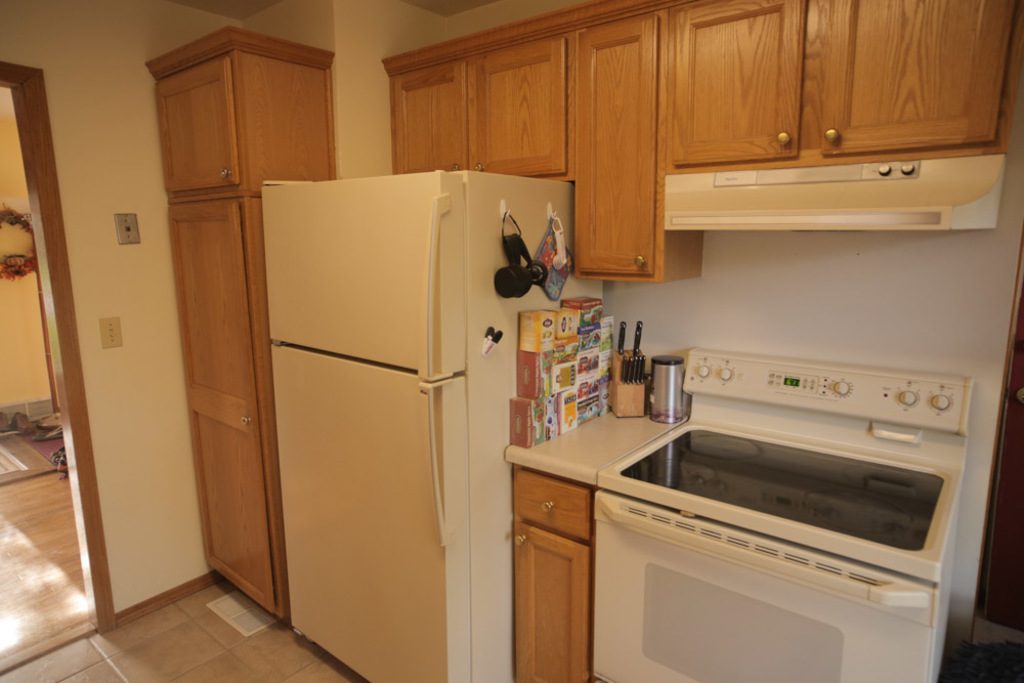cabinet door: (186, 229, 264, 593), (806, 11, 995, 151), (572, 23, 653, 270), (673, 13, 797, 162), (514, 527, 578, 683), (474, 61, 564, 169), (156, 75, 234, 184), (395, 80, 462, 172), (522, 475, 587, 529)
handle: (598, 501, 916, 610), (409, 387, 455, 546), (414, 188, 454, 364), (770, 119, 797, 151), (818, 121, 843, 149), (214, 162, 239, 185), (537, 496, 558, 519), (634, 250, 652, 275), (510, 529, 530, 548)
refrigerator door: (286, 356, 472, 671), (258, 193, 450, 367)
